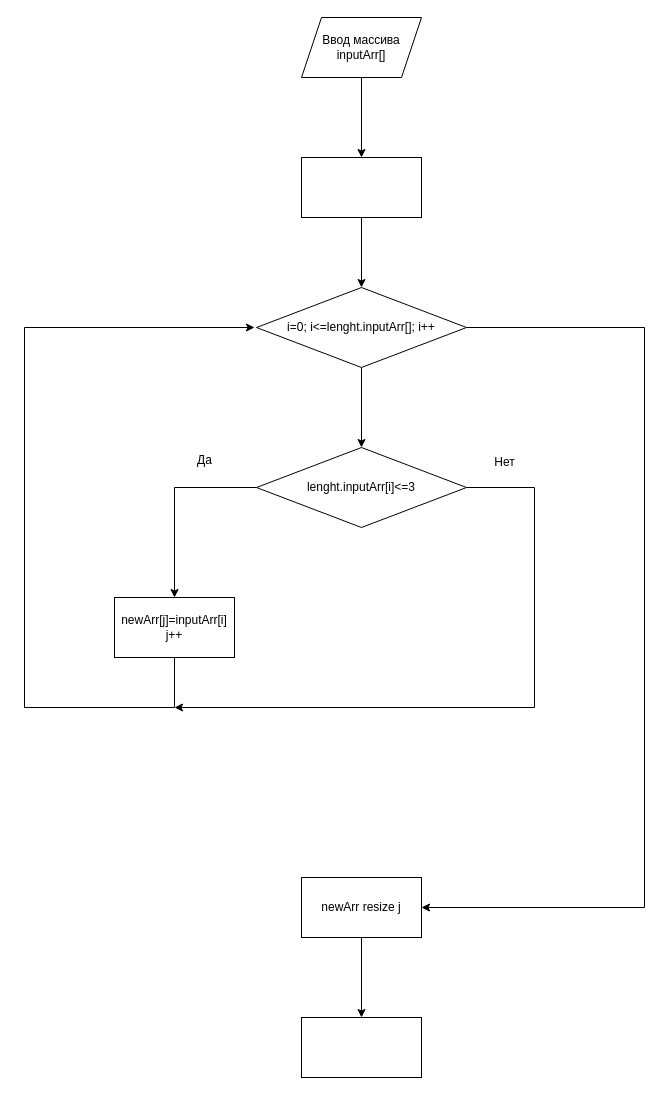
This 670x1095 diagram has some shape labels left out. Each missing label, with the centre of its shape:
"newArr[] j=0" goes at point 361,187.
"return newArr[]" goes at point 361,1047.
